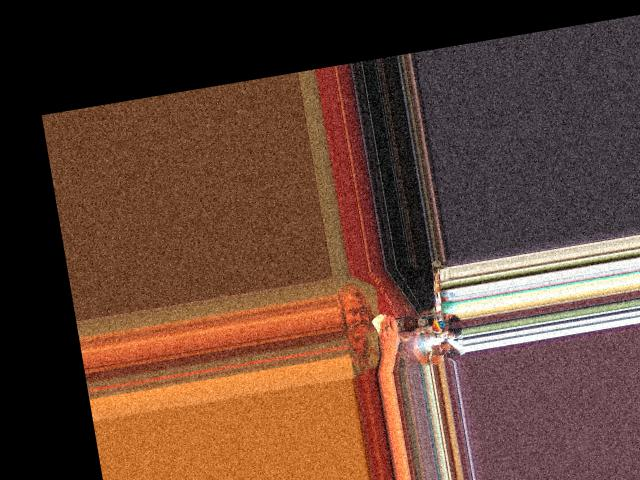beer: (379, 311, 436, 335)
